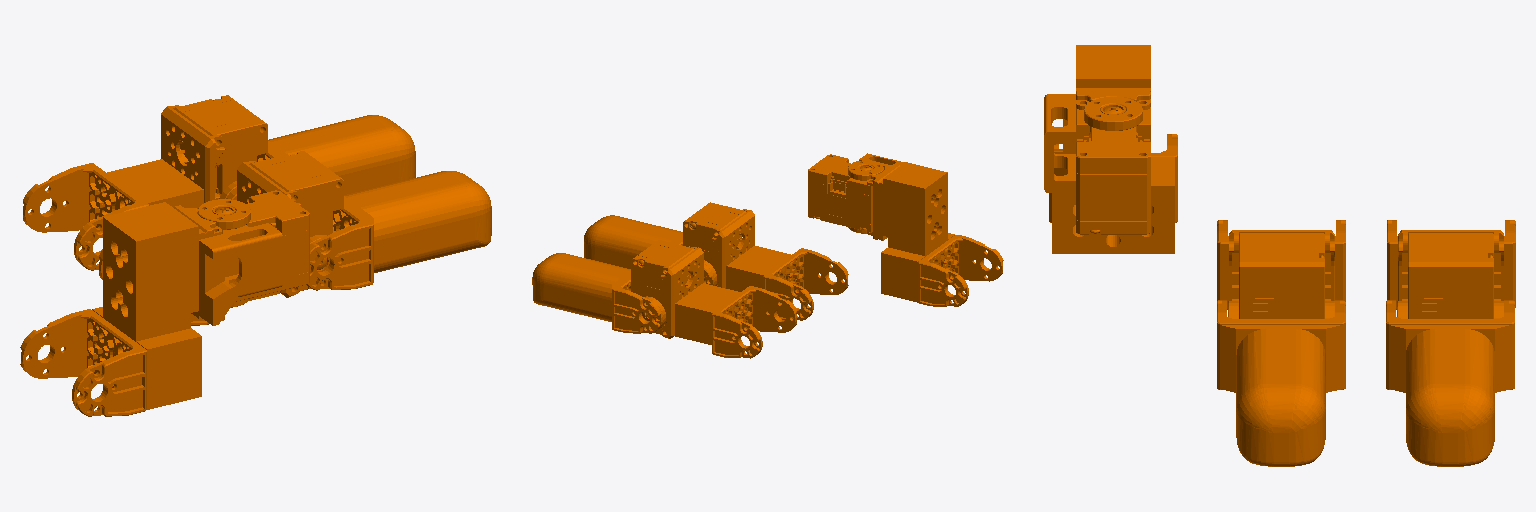
The robot description file, URDF, robot "onshape":
<robot name="onshape">
  <link name="palm_lower">
    <inertial>
      <origin xyz="0.0 0.0 0.0" rpy="0.0 -0.0 0.0"/>
      <mass value="0.237"/>
      <inertia ixx="0.000354094" ixy="-1.193e-06" ixz="-2.445e-06" iyy="0.000260915" iyz="-2.905e-06" izz="0.000529257"/>
    </inertial>
    <visual>
      <geometry>
        <mesh filename="../assets/leap/leap_hand/palm_lower.stl"/>
      </geometry>
      <origin xyz="-0.020095249652862544 0.025757756134899473 -0.034722403578460216" rpy="0.0 -0.0 0.0"/>
      <material name="palm_lower_material">
        <color rgba="0.6039215686274509 0.14901960784313725 0.14901960784313725 1.0"/>
      </material>
    </visual>
    <collision>
      <geometry>
        <mesh filename="../assets/leap/leap_hand/palm_lower.stl"/>
      </geometry>
      <origin xyz="-0.020095249652862544 0.025757756134899473 -0.034722403578460216" rpy="0.0 -0.0 0.0"/>
    </collision>
  </link>
  <link name="mcp_joint">
    <inertial>
      <origin xyz="0.0 0.0 0.0" rpy="0.0 -0.0 0.0"/>
      <mass value="0.044"/>
      <inertia ixx="1.1499e-05" ixy="3.049e-06" ixz="1.21e-07" iyy="7.796e-06" iyz="1.12e-07" izz="1.4759e-05"/>
    </inertial>
    <visual>
      <geometry>
        <mesh filename="../assets/leap/leap_hand/mcp_joint.stl"/>
      </geometry>
      <origin xyz="0.008406902261174496 0.0077662438597169954 0.014657354985032912" rpy="1.6375789613221e-15 -1.021047330249102e-30 1.7177968783327987e-31"/>
      <material name="mcp_joint_material">
        <color rgba="0.8666666666666667 0.8666666666666667 0.050980392156862744 1.0"/>
      </material>
    </visual>
    <collision>
      <geometry>
        <mesh filename="../assets/leap/leap_hand/mcp_joint.stl"/>
      </geometry>
      <origin xyz="0.008406902261174496 0.0077662438597169954 0.014657354985032912" rpy="1.6375789613221e-15 -1.021047330249102e-30 1.7177968783327987e-31"/>
    </collision>
  </link>
  <link name="pip">
    <inertial>
      <origin xyz="0.0 0.0 0.0" rpy="0.0 -0.0 0.0"/>
      <mass value="0.032"/>
      <inertia ixx="4.798e-06" ixy="1.2e-08" ixz="4e-09" iyy="2.862e-06" iyz="1.1e-08" izz="4.234e-06"/>
    </inertial>
    <visual>
      <geometry>
        <mesh filename="../assets/leap/leap_hand/pip.stl"/>
      </geometry>
      <origin xyz="0.009643363092271328 0.0002999999999999895 0.0007840340104173765" rpy="-1.5707963267948966 -1.5707963267948963 0.0"/>
      <material name="pip_material">
        <color rgba="0.7490196078431373 0.7490196078431373 0.7490196078431373 1.0"/>
      </material>
    </visual>
    <collision>
      <geometry>
        <mesh filename="../assets/leap/leap_hand/pip.stl"/>
      </geometry>
      <origin xyz="0.009643363092271328 0.0002999999999999895 0.0007840340104173765" rpy="-1.5707963267948966 -1.5707963267948963 0.0"/>
    </collision>
  </link>
  <link name="dip_long">
    <inertial>
      <origin xyz="0.0 0.0 0.0" rpy="0.0 -0.0 0.0"/>
      <mass value="0.037"/>
      <inertia ixx="5.542e-06" ixy="-6.07e-07" ixz="-1.7e-08" iyy="5.727e-06" iyz="-2.3e-08" izz="6.682e-06"/>
    </inertial>
    <visual>
      <geometry>
        <mesh filename="custom_models/dip_long.stl"/>
      </geometry>
      <origin xyz="0.021133352895225003 -0.00843211914670488 0.00978508816209524" rpy="-3.141592653589793 4.507511124216441e-32 4.439548105392361e-32"/>
      <material name="dip_material">
        <color rgba="0.878 0.467 0.0 1.0"/>
      </material>
    </visual>
    <collision>
      <geometry>
        <mesh filename="custom_models/dip_long.stl"/>
      </geometry>
      <origin xyz="0.021133352895225003 -0.00843211914670488 0.00978508816209524" rpy="-3.141592653589793 4.507511124216441e-32 4.439548105392361e-32"/>
    </collision>
  </link>
  <link name="fingertip_long">
    <inertial>
      <origin xyz="0.0 0.0 0.0" rpy="0.0 -0.0 0.0"/>
      <mass value="0.016"/>
      <inertia ixx="3.368e-06" ixy="1.15e-07" ixz="0.0" iyy="1.556e-06" iyz="0.0" izz="2.863e-06"/>
    </inertial>
    <visual>
      <geometry>
        <mesh filename="custom_models/fingertip_long.stl"/>
      </geometry>
      <origin xyz="0.013286424108533503 -0.006114238386541987 0.014499999999999498" rpy="3.141592653589793 1.1993117970061735e-33 4.439548105392361e-32"/>
      <material name="fingertip_material">
        <color rgba="0.878 0.467 0.0 1.0"/>
      </material>
    </visual>
    <collision>
      <geometry>
        <mesh filename="custom_models/fingertip_long.stl"/>
      </geometry>
      <origin xyz="0.013286424108533503 -0.006114238386541987 0.014499999999999498" rpy="3.141592653589793 1.1993117970061735e-33 4.439548105392361e-32"/>
    </collision>
  </link>
  <link name="pip_4">
    <inertial>
      <origin xyz="0.0 0.0 0.0" rpy="0.0 -0.0 0.0"/>
      <mass value="0.032"/>
      <inertia ixx="4.798e-06" ixy="1.2e-08" ixz="4e-09" iyy="2.862e-06" iyz="1.1e-08" izz="4.234e-06"/>
    </inertial>
    <visual>
      <geometry>
        <mesh filename="../assets/leap/leap_hand/pip.stl"/>
      </geometry>
      <origin xyz="-0.005356636907728671 0.0002999999999999999 0.0007840340104173782" rpy="-1.5707963267948966 -1.5707963267948963 0.0"/>
      <material name="pip_material">
        <color rgba="0.7490196078431373 0.7490196078431373 0.7490196078431373 1.0"/>
      </material>
    </visual>
    <collision>
      <geometry>
        <mesh filename="../assets/leap/leap_hand/pip.stl"/>
      </geometry>
      <origin xyz="-0.005356636907728671 0.0002999999999999999 0.0007840340104173782" rpy="-1.5707963267948966 -1.5707963267948963 0.0"/>
    </collision>
  </link>
  <link name="thumb_pip">
    <inertial>
      <origin xyz="0.0 0.0 0.0" rpy="0.0 -0.0 0.0"/>
      <mass value="0.003"/>
      <inertia ixx="5.93e-07" ixy="0.0" ixz="0.0" iyy="5.49e-07" iyz="0.0" izz="2.24e-07"/>
    </inertial>
    <visual>
      <geometry>
        <mesh filename="../assets/leap/leap_hand/thumb_pip.stl"/>
      </geometry>
      <origin xyz="0.011961920770611187 -5.30825383648903e-16 -0.0158526489566642" rpy="1.5707963267948966 1.6050198443300153e-46 -3.9204996250525193e-59"/>
      <material name="thumb_pip_material">
        <color rgba="0.8666666666666667 0.8666666666666667 0.050980392156862744 1.0"/>
      </material>
    </visual>
    <collision>
      <geometry>
        <mesh filename="../assets/leap/leap_hand/thumb_pip.stl"/>
      </geometry>
      <origin xyz="0.011961920770611187 -5.30825383648903e-16 -0.0158526489566642" rpy="1.5707963267948966 1.6050198443300153e-46 -3.9204996250525193e-59"/>
    </collision>
  </link>
  <link name="thumb_dip">
    <inertial>
      <origin xyz="0.0 0.0 0.0" rpy="0.0 -0.0 0.0"/>
      <mass value="0.038"/>
      <inertia ixx="8.474e-06" ixy="2.41e-07" ixz="2.6e-08" iyy="3.841e-06" iyz="2.5e-08" izz="7.679e-06"/>
    </inertial>
    <visual>
      <geometry>
        <mesh filename="../assets/leap/leap_hand/thumb_dip.stl"/>
      </geometry>
      <origin xyz="0.043968715707239175 0.0579529529737092 -0.008628676449369476" rpy="1.94289029309401e-16 3.27515792264422e-15 1.112375852965736e-46"/>
      <material name="thumb_dip_material">
        <color rgba="0.8666666666666667 0.8666666666666667 0.050980392156862744 1.0"/>
      </material>
    </visual>
    <collision>
      <geometry>
        <mesh filename="../assets/leap/leap_hand/thumb_dip.stl"/>
      </geometry>
      <origin xyz="0.043968715707239175 0.0579529529737092 -0.008628676449369476" rpy="1.94289029309401e-16 3.27515792264422e-15 1.112375852965736e-46"/>
    </collision>
  </link>
  <link name="thumb_fingertip">
    <inertial>
      <origin xyz="0.0 0.0 0.0" rpy="0.0 -0.0 0.0"/>
      <mass value="0.049"/>
      <inertia ixx="2.0372e-05" ixy="-4.89e-07" ixz="-3e-08" iyy="4.336e-06" iyz="-9.7e-08" izz="1.9845e-05"/>
    </inertial>
    <visual>
      <geometry>
        <mesh filename="../assets/leap/leap_hand/thumb_fingertip.stl"/>
      </geometry>
      <origin xyz="0.06255953846266739 0.07845968291139699 0.048992911807332215" rpy="4.379057701015637e-47 -3.33066907387547e-16 1.2042408677791935e-46"/>
      <material name="thumb_fingertip_material">
        <color rgba="0.6039215686274509 0.14901960784313725 0.14901960784313725 1.0"/>
      </material>
    </visual>
    <collision>
      <geometry>
        <mesh filename="../assets/leap/leap_hand/thumb_fingertip.stl"/>
      </geometry>
      <origin xyz="0.06255953846266739 0.07845968291139699 0.048992911807332215" rpy="4.379057701015637e-47 -3.33066907387547e-16 1.2042408677791935e-46"/>
    </collision>
  </link>
  <link name="mcp_joint_2">
    <inertial>
      <origin xyz="0.0 0.0 0.0" rpy="0.0 -0.0 0.0"/>
      <mass value="0.044"/>
      <inertia ixx="1.1499e-05" ixy="3.049e-06" ixz="1.21e-07" iyy="7.796e-06" iyz="1.12e-07" izz="1.4759e-05"/>
    </inertial>
    <visual>
      <geometry>
        <mesh filename="../assets/leap/leap_hand/mcp_joint.stl"/>
      </geometry>
      <origin xyz="0.008406902261174496 0.0077662438597169954 0.014657354985032914" rpy="1.6375789613221e-15 -1.0076465469034e-30 2.1209300131419907e-61"/>
      <material name="mcp_joint_material">
        <color rgba="0.8666666666666667 0.8666666666666667 0.050980392156862744 1.0"/>
      </material>
    </visual>
    <collision>
      <geometry>
        <mesh filename="../assets/leap/leap_hand/mcp_joint.stl"/>
      </geometry>
      <origin xyz="0.008406902261174496 0.0077662438597169954 0.014657354985032914" rpy="1.6375789613221e-15 -1.0076465469034e-30 2.1209300131419907e-61"/>
    </collision>
  </link>
  <link name="pip_2">
    <inertial>
      <origin xyz="0.0 0.0 0.0" rpy="0.0 -0.0 0.0"/>
      <mass value="0.032"/>
      <inertia ixx="4.798e-06" ixy="1.2e-08" ixz="4e-09" iyy="2.862e-06" iyz="1.1e-08" izz="4.234e-06"/>
    </inertial>
    <visual>
      <geometry>
        <mesh filename="../assets/leap/leap_hand/pip.stl"/>
      </geometry>
      <origin xyz="0.009643363092271328 0.0002999999999999947 0.0007840340104173765" rpy="-1.5707963267948966 -1.5707963267948963 0.0"/>
      <material name="pip_material">
        <color rgba="0.7490196078431373 0.7490196078431373 0.7490196078431373 1.0"/>
      </material>
    </visual>
    <collision>
      <geometry>
        <mesh filename="../assets/leap/leap_hand/pip.stl"/>
      </geometry>
      <origin xyz="0.009643363092271328 0.0002999999999999947 0.0007840340104173765" rpy="-1.5707963267948966 -1.5707963267948963 0.0"/>
    </collision>
  </link>
  <link name="dip_2_long">
    <inertial>
      <origin xyz="0.0 0.0 0.0" rpy="0.0 -0.0 0.0"/>
      <mass value="0.037"/>
      <inertia ixx="5.542e-06" ixy="-6.07e-07" ixz="-1.7e-08" iyy="5.727e-06" iyz="-2.3e-08" izz="6.682e-06"/>
    </inertial>
    <visual>
      <geometry>
        <mesh filename="custom_models/dip_long.stl"/>
      </geometry>
      <origin xyz="0.021133352895225003 -0.008432119146704865 0.009785088162095237" rpy="-3.141592653589793 2.1146933785271956e-32 1.4408183216511869e-31"/>
      <material name="dip_material">
        <color rgba="0.878 0.467 0.0 1.0"/>
      </material>
    </visual>
    <collision>
      <geometry>
        <mesh filename="custom_models/dip_long.stl"/>
      </geometry>
      <origin xyz="0.021133352895225003 -0.008432119146704865 0.009785088162095237" rpy="-3.141592653589793 2.1146933785271956e-32 1.4408183216511869e-31"/>
    </collision>
  </link>
  <link name="fingertip_2_long">
    <inertial>
      <origin xyz="0.0 0.0 0.0" rpy="0.0 -0.0 0.0"/>
      <mass value="0.016"/>
      <inertia ixx="3.368e-06" ixy="1.15e-07" ixz="0.0" iyy="1.556e-06" iyz="0.0" izz="2.863e-06"/>
    </inertial>
    <visual>
      <geometry>
        <mesh filename="custom_models/fingertip_long.stl"/>
      </geometry>
      <origin xyz="0.013286424108533496 -0.006114238386542001 0.014499999999999496" rpy="3.141592653589793 -4.317959788283594e-33 1.4408183216511869e-31"/>
      <material name="fingertip_material">
        <color rgba="0.878 0.467 0.0 1.0"/>
      </material>
    </visual>
    <collision>
      <geometry>
        <mesh filename="custom_models/fingertip_long.stl"/>
      </geometry>
      <origin xyz="0.013286424108533496 -0.006114238386542001 0.014499999999999496" rpy="3.141592653589793 -4.317959788283594e-33 1.4408183216511869e-31"/>
    </collision>
  </link>
  <link name="mcp_joint_3_long">
    <inertial>
      <origin xyz="0.0 0.0 0.0" rpy="0.0 -0.0 0.0"/>
      <mass value="0.044"/>
      <inertia ixx="1.1499e-05" ixy="3.049e-06" ixz="1.21e-07" iyy="7.796e-06" iyz="1.12e-07" izz="1.4759e-05"/>
    </inertial>
    <visual>
      <geometry>
        <mesh filename="custom_models/mcp_joint_long.stl"/>
      </geometry>
      <origin xyz="0.0084069022611745 0.007766243859716996 0.014657354985032914" rpy="1.6375789613221e-15 -1.0059504988632627e-30 5.729641584552035e-32"/>
      <material name="mcp_joint_material">
        <color rgba="0.878 0.467 0.0 1.0"/>
      </material>
    </visual>
    <collision>
      <geometry>
        <mesh filename="custom_models/mcp_joint_long.stl"/>
      </geometry>
      <origin xyz="0.0084069022611745 0.007766243859716996 0.014657354985032914" rpy="1.6375789613221e-15 -1.0059504988632627e-30 5.729641584552035e-32"/>
    </collision>
  </link>
  <link name="pip_3">
    <inertial>
      <origin xyz="0.0 0.0 0.0" rpy="0.0 -0.0 0.0"/>
      <mass value="0.032"/>
      <inertia ixx="4.798e-06" ixy="1.2e-08" ixz="4e-09" iyy="2.862e-06" iyz="1.1e-08" izz="4.234e-06"/>
    </inertial>
    <visual>
      <geometry>
        <mesh filename="../assets/leap/leap_hand/pip.stl"/>
      </geometry>
      <origin xyz="0.009643363092271331 0.00029999999999998084 0.0007840340104173765" rpy="-1.5707963267948966 -1.5707963267948963 0.0"/>
      <material name="pip_material">
        <color rgba="0.7490196078431373 0.7490196078431373 0.7490196078431373 1.0"/>
      </material>
    </visual>
    <collision>
      <geometry>
        <mesh filename="../assets/leap/leap_hand/pip.stl"/>
      </geometry>
      <origin xyz="0.009643363092271331 0.00029999999999998084 0.0007840340104173765" rpy="-1.5707963267948966 -1.5707963267948963 0.0"/>
    </collision>
  </link>
  <link name="dip_3">
    <inertial>
      <origin xyz="0.0 0.0 0.0" rpy="0.0 -0.0 0.0"/>
      <mass value="0.037"/>
      <inertia ixx="5.542e-06" ixy="-6.07e-07" ixz="-1.7e-08" iyy="5.727e-06" iyz="-2.3e-08" izz="6.682e-06"/>
    </inertial>
    <visual>
      <geometry>
        <mesh filename="../assets/leap/leap_hand/dip.stl"/>
      </geometry>
      <origin xyz="0.021133352895225006 -0.008432119146704865 0.009785088162095237" rpy="-3.141592653589793 -1.4095651113919093e-33 1.5565411607615035e-32"/>
      <material name="dip_material">
        <color rgba="0.8666666666666667 0.8666666666666667 0.050980392156862744 1.0"/>
      </material>
    </visual>
    <collision>
      <geometry>
        <mesh filename="../assets/leap/leap_hand/dip.stl"/>
      </geometry>
      <origin xyz="0.021133352895225006 -0.008432119146704865 0.009785088162095237" rpy="-3.141592653589793 -1.4095651113919093e-33 1.5565411607615035e-32"/>
    </collision>
  </link>
  <link name="fingertip_3">
    <inertial>
      <origin xyz="0.0 0.0 0.0" rpy="0.0 -0.0 0.0"/>
      <mass value="0.016"/>
      <inertia ixx="3.368e-06" ixy="1.15e-07" ixz="0.0" iyy="1.556e-06" iyz="0.0" izz="2.863e-06"/>
    </inertial>
    <visual>
      <geometry>
        <mesh filename="../assets/leap/leap_hand/fingertip.stl"/>
      </geometry>
      <origin xyz="0.013286424108533501 -0.006114238386541987 0.0144999999999995" rpy="3.141592653589793 8.61707169505754e-33 1.5565411607615035e-32"/>
      <material name="fingertip_material">
        <color rgba="0.8666666666666667 0.8666666666666667 0.050980392156862744 1.0"/>
      </material>
    </visual>
    <collision>
      <geometry>
        <mesh filename="../assets/leap/leap_hand/fingertip.stl"/>
      </geometry>
      <origin xyz="0.013286424108533501 -0.006114238386541987 0.0144999999999995" rpy="3.141592653589793 8.61707169505754e-33 1.5565411607615035e-32"/>
    </collision>
  </link>
  <joint name="1" type="revolute">
    <parent link="palm_lower"/>
    <child link="mcp_joint"/>
    <origin xyz="-0.007095249652862546 0.023057756134899472 -0.01872240357846022" rpy="1.570796326794895 1.5707963267948946 0.0"/>
    <axis xyz="0.0 0.0 -1.0"/>
    <limit effort="0.95" velocity="8.48" lower="-0.314" upper="2.23"/>
  </joint>
  <joint name="0" type="revolute">
    <parent link="mcp_joint"/>
    <child link="pip"/>
    <origin xyz="-0.012200000000000008 0.038099999999999995 0.0145" rpy="-1.5707963267948966 -1.0065212660796337e-15 1.5707963267948943"/>
    <axis xyz="0.0 0.0 -1.0"/>
    <limit effort="0.95" velocity="8.48" lower="-1.047" upper="1.047"/>
  </joint>
  <joint name="2" type="revolute">
    <parent link="pip"/>
    <child link="dip_long"/>
    <origin xyz="0.014999999999999968 0.014299999999999905 -0.012999999999999824" rpy="1.570796326794896 -1.5707963267948963 0.0"/>
    <axis xyz="0.0 0.0 -1.0"/>
    <limit effort="0.95" velocity="8.48" lower="-0.506" upper="1.885"/>
  </joint>
  <joint name="3" type="revolute">
    <parent link="dip_long"/>
    <child link="fingertip_long"/>
    <origin xyz="-4.0880582495572692636e-09 -0.051100004210367367397 0.00020000000000007858714" rpy="4.5935029425113685e-17 -2.8730071914463795e-16 4.439548105392361e-32"/>
    <axis xyz="0.0 0.0 -1.0"/>
    <limit effort="0.95" velocity="8.48" lower="-0.366" upper="2.042"/>
  </joint>
  <joint name="12" type="revolute">
    <parent link="palm_lower"/>
    <child link="pip_4"/>
    <origin xyz="-0.06939524965286253 -0.0012422438651005258 -0.021622403578460216" rpy="-8.238176646493942e-17 1.5707963267948957 0.0"/>
    <axis xyz="0.0 0.0 -1.0"/>
    <limit effort="0.95" velocity="8.48" lower="-0.349" upper="2.094"/>
  </joint>
  <joint name="13" type="revolute">
    <parent link="pip_4"/>
    <child link="thumb_pip"/>
    <origin xyz="-2.7755575615628914e-17 0.014300000000000005 -0.013000000000000012" rpy="1.570796326794896 -1.5707963267948963 0.0"/>
    <axis xyz="0.0 0.0 -1.0"/>
    <limit effort="0.95" velocity="8.48" lower="-0.47" upper="2.443"/>
  </joint>
  <joint name="14" type="revolute">
    <parent link="thumb_pip"/>
    <child link="thumb_dip"/>
    <origin xyz="0.0 0.014499999999999966 -0.017000000000000053" rpy="-1.5707963267948966 1.6050198443300131e-46 -1.9721522630516625e-31"/>
    <axis xyz="0.0 0.0 -1.0"/>
    <limit effort="0.95" velocity="8.48" lower="-1.2" upper="1.9"/>
  </joint>
  <joint name="15" type="revolute">
    <parent link="thumb_dip"/>
    <child link="thumb_fingertip"/>
    <origin xyz="-1.249000902703301e-16 0.046599999999999864 0.0001999999999999771" rpy="1.506395849149178e-44 5.423418723393526e-31 3.141592653589793"/>
    <axis xyz="0.0 0.0 -1.0"/>
    <limit effort="0.95" velocity="8.48" lower="-1.34" upper="1.88"/>
  </joint>
  <joint name="5" type="revolute">
    <parent link="palm_lower"/>
    <child link="mcp_joint_2"/>
    <origin xyz="-0.007095249652862546 -0.022392243865100525 -0.01872240357846022" rpy="1.570796326794895 1.5707963267948946 0.0"/>
    <axis xyz="0.0 0.0 -1.0"/>
    <limit effort="0.95" velocity="8.48" lower="-0.314" upper="2.23"/>
  </joint>
  <joint name="4" type="revolute">
    <parent link="mcp_joint_2"/>
    <child link="pip_2"/>
    <origin xyz="-0.012200000000000008 0.038099999999999995 0.0145" rpy="-1.5707963267948966 -1.0065212660796337e-15 1.5707963267948943"/>
    <axis xyz="0.0 0.0 -1.0"/>
    <limit effort="0.95" velocity="8.48" lower="-1.047" upper="1.047"/>
  </joint>
  <joint name="6" type="revolute">
    <parent link="pip_2"/>
    <child link="dip_2_long"/>
    <origin xyz="0.014999999999999968 0.014299999999999905 -0.012999999999999824" rpy="1.570796326794896 -1.5707963267948963 0.0"/>
    <axis xyz="0.0 0.0 -1.0"/>
    <limit effort="0.95" velocity="8.48" lower="-0.506" upper="1.885"/>
  </joint>
  <joint name="7" type="revolute">
    <parent link="dip_2_long"/>
    <child link="fingertip_2_long"/>
    <origin xyz="-4.0880582495572692636e-09 -0.051100004210367367397 0.00020000000000007858714" rpy="4.5935029425113685e-17 -2.8730071914463795e-16 4.439548105392361e-32"/>
    <axis xyz="0.0 0.0 -1.0"/>
    <limit effort="0.95" velocity="8.48" lower="-0.366" upper="2.042"/>
  </joint>
  <joint name="9" type="revolute">
    <parent link="palm_lower"/>
    <child link="mcp_joint_3_long"/>
    <origin xyz="-0.007095249652862546 -0.06784224386510052 -0.01872240357846022" rpy="1.570796326794895 1.5707963267948946 0.0"/>
    <axis xyz="0.0 0.0 -1.0"/>
    <limit effort="0.95" velocity="8.48" lower="-0.314" upper="2.23"/>
  </joint>
  <joint name="8" type="revolute">
    <parent link="mcp_joint_3_long"/>
    <child link="pip_3"/>
    <origin xyz="-0.012200000000000007713 0.053099999999999994982 0.014500000000000000736" rpy="-1.5707963267948966 -1.0065212660796337e-15 1.5707963267948943"/>
    <axis xyz="0.0 0.0 -1.0"/>
    <limit effort="0.95" velocity="8.48" lower="-1.047" upper="1.047"/>
  </joint>
  <joint name="10" type="revolute">
    <parent link="pip_3"/>
    <child link="dip_3"/>
    <origin xyz="0.014999999999999968 0.014299999999999905 -0.012999999999999824" rpy="1.570796326794896 -1.5707963267948963 0.0"/>
    <axis xyz="0.0 0.0 -1.0"/>
    <limit effort="0.95" velocity="8.48" lower="-0.506" upper="1.885"/>
  </joint>
  <joint name="11" type="revolute">
    <parent link="dip_3"/>
    <child link="fingertip_3"/>
    <origin xyz="-4.088058249557269e-09 -0.03610000421036737 0.0002000000000000786" rpy="4.5935029425113685e-17 -2.8730071914463795e-16 4.439548105392361e-32"/>
    <axis xyz="0.0 0.0 -1.0"/>
    <limit effort="0.95" velocity="8.48" lower="-0.366" upper="2.042"/>
  </joint>
</robot>

--- Facts derived from the render (not from the file) ---
Views: 3 orthographic renders of the robot side by side, from view 1: azimuth 30°, elevation 25°; view 2: azimuth 150°, elevation 25°; view 3: azimuth 270°, elevation 25°.
Model onshape with 17 links and 16 joints (16 revolute), rooted at palm_lower, posed all joints at 0.
Links seen in each view (by area): view 1: mcp_joint_3_long, dip_long, fingertip_2_long, fingertip_long, dip_2_long; view 2: mcp_joint_3_long, dip_long, dip_2_long, fingertip_long, fingertip_2_long; view 3: mcp_joint_3_long, fingertip_2_long, fingertip_long, dip_long, dip_2_long.
Link boxes in pixels (<box>): mcp_joint_3_long: <box>20,190,309,416</box>; dip_long: <box>23,95,267,270</box>; fingertip_2_long: <box>307,171,491,290</box>; fingertip_long: <box>226,115,415,199</box>; dip_2_long: <box>99,151,343,325</box>; mcp_joint_3_long: <box>808,153,1003,306</box>; dip_long: <box>631,240,796,358</box>; dip_2_long: <box>683,202,848,320</box>; fingertip_long: <box>532,253,662,333</box>; fingertip_2_long: <box>584,215,713,285</box>; mcp_joint_3_long: <box>1044,45,1177,253</box>; fingertip_2_long: <box>1217,300,1345,466</box>; fingertip_long: <box>1386,300,1514,466</box>; dip_long: <box>1387,220,1515,318</box>; dip_2_long: <box>1217,220,1345,318</box>.
Bounding box of the posed robot: 0.1766 × 0.1265 × 0.0549 m (x, y, z).
5 mesh visuals loaded from 11 distinct referenced files (3 binary STL); not drawn: 12 (reference not matched to a file when rendering).